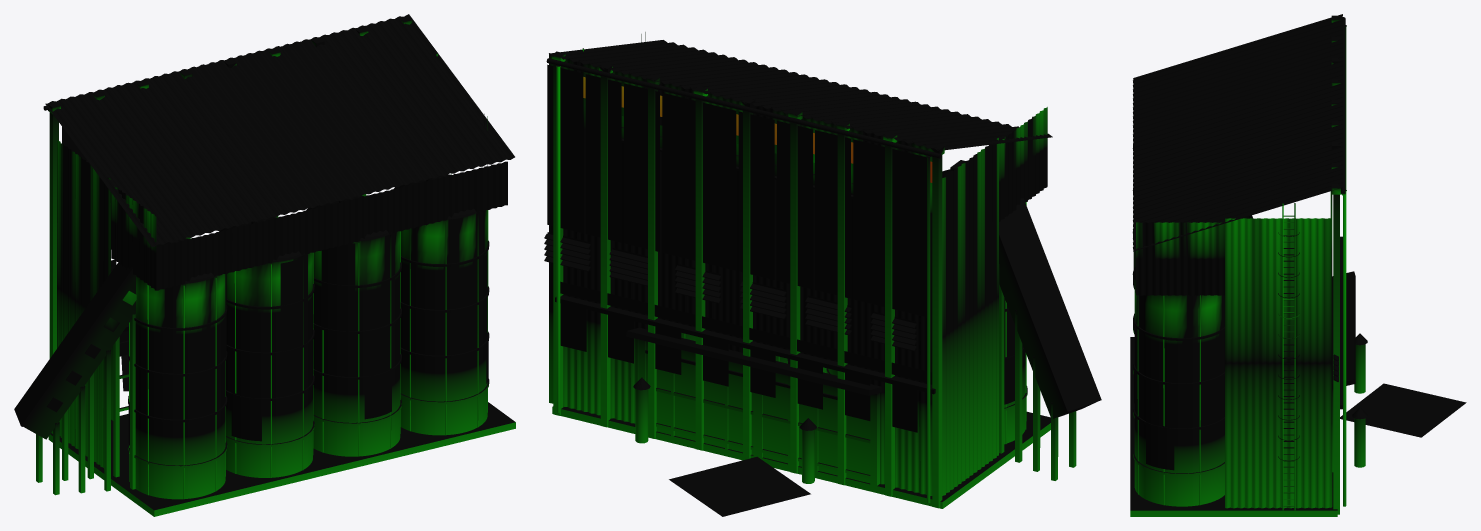
Rendered from grainstorage.glb.
3 views of the same model, side by side, from view 1: azimuth 30°, elevation 25°; view 2: azimuth 150°, elevation 25°; view 3: azimuth 270°, elevation 25° (orthographic). The views are drawn at different scales.
Visible parts, largest first — view 1: lod0; view 2: lod0; view 3: lod0.
Boxes of the visible parts, x1=… form: lod0: x1=14, y1=14, x2=515, y2=516; lod0: x1=544, y1=32, x2=1101, y2=516; lod0: x1=1130, y1=14, x2=1466, y2=516.
Size of what is drawn, in the model's own units: 21.96 by 15.38 by 14.22.
